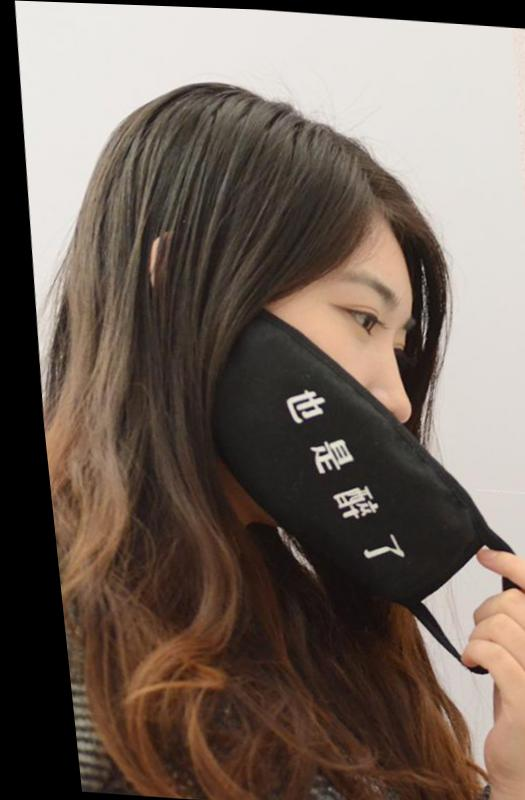WRONG: (223, 251, 432, 503)
